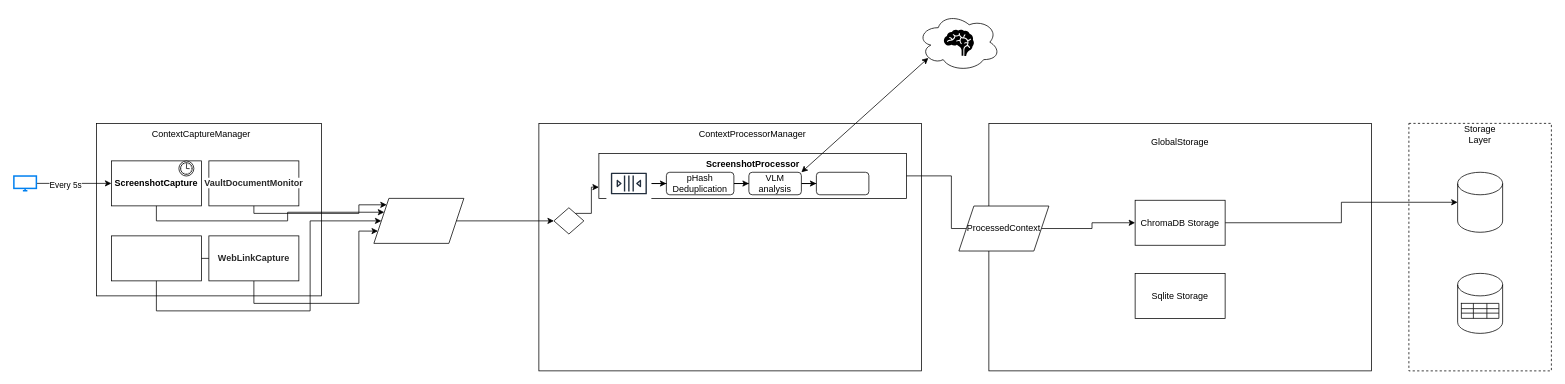
The diagram is 1565 pixels wide and 384 high, and some of its shapes have lost their labels. The shapes that lost their labels are listed below. From the top down, each one's centre as x and y in pixels, then its label:
At (842,183): "Contexts Merge".
At (1480,202): "Vector".
At (418,220): "RawContext Properties".
At (156,258): "FolderMonitor".
